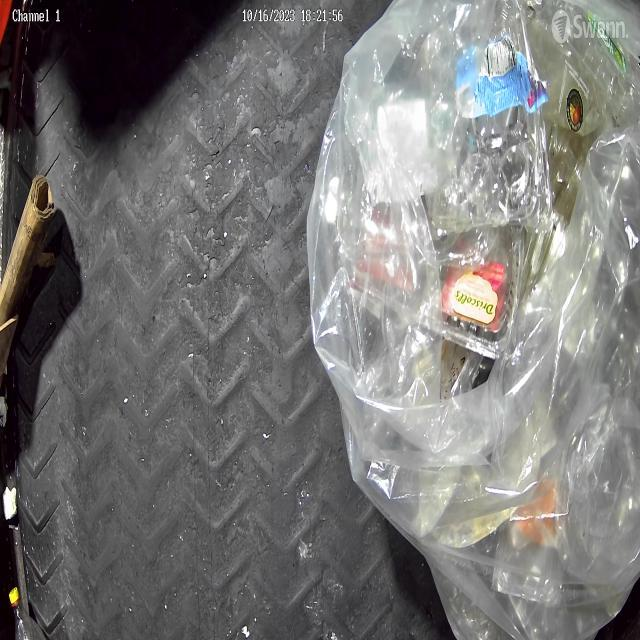plastic_bottle: (8, 588, 46, 640)
